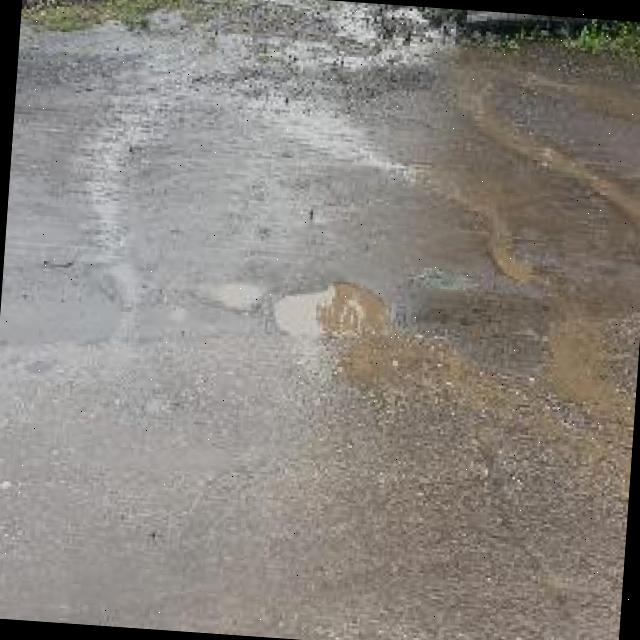stagnation: (272, 264, 406, 362)
